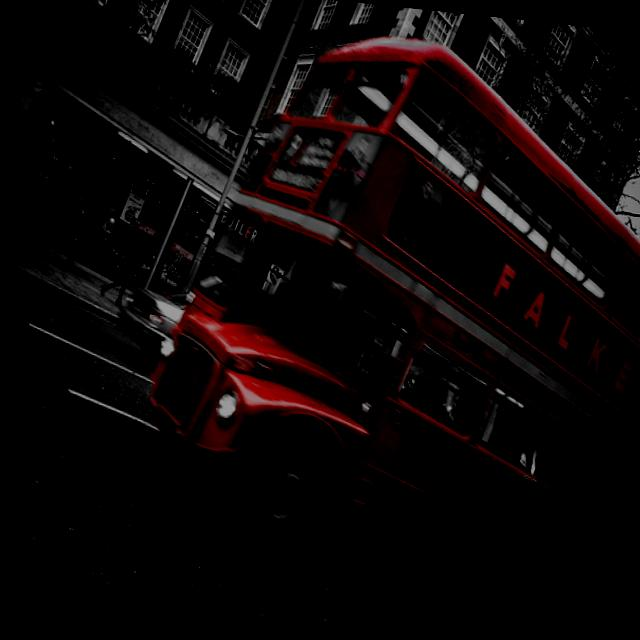Vehicle: (119, 17, 640, 640), (113, 282, 188, 356)
